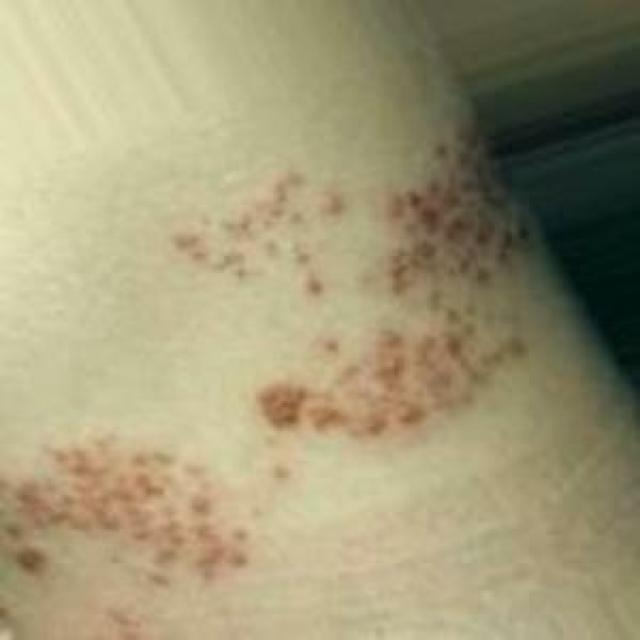Shingles: (167, 125, 528, 432), (0, 433, 250, 632)
